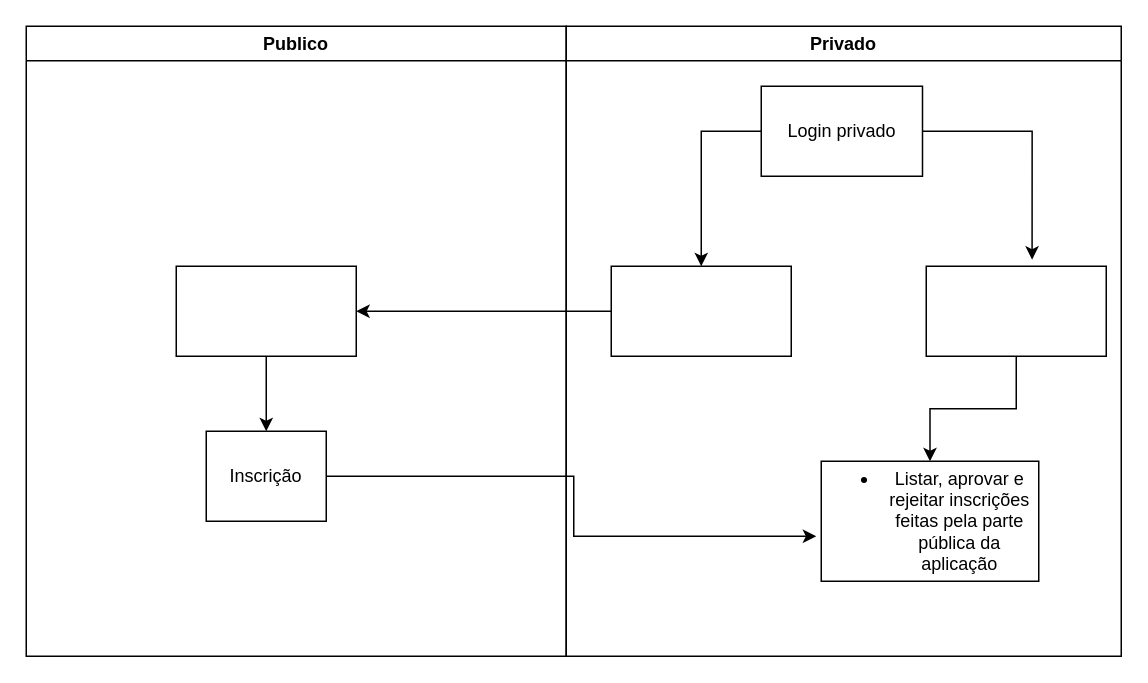
Image size: 1148x683. Some labels were removed from this diagram. The shapes that lost their labels are listed below. From the top down, each one's centre as x and y in pixels, then its label:
At (265,310): "Seleção viagens".
At (700,310): "Cria viagem".
At (1015,310): "Lista viagens".
